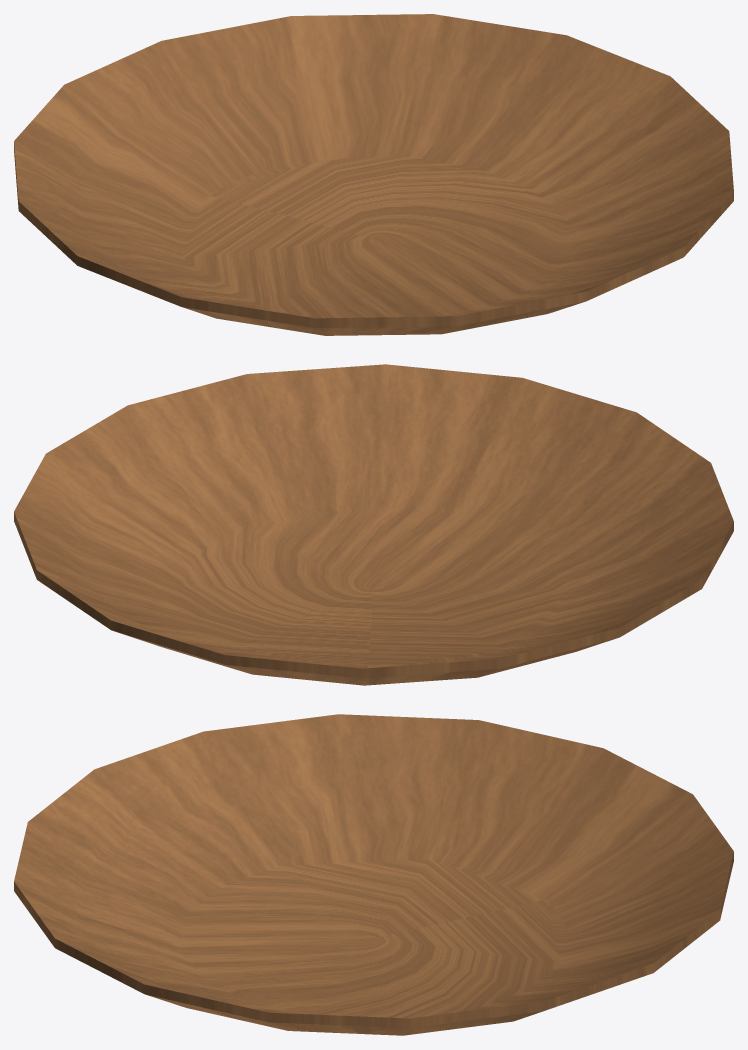
Rendered from Plato_V2.fbx.
The picture shows the model from 3 angles, top to bottom: view 1: azimuth 30°, elevation 25°; view 2: azimuth 150°, elevation 25°; view 3: azimuth 270°, elevation 25°; orthographic projection.
Visible parts, largest first — view 1: Platos_V2; view 2: Platos_V2; view 3: Platos_V2.
Part boxes in pixels (<box>): Platos_V2: <box>14,14,733,335</box>; Platos_V2: <box>14,364,733,685</box>; Platos_V2: <box>14,714,733,1035</box>.
Bounding box in the file's own units: 196 × 24.61 × 196.
1 material, 1 textured.
